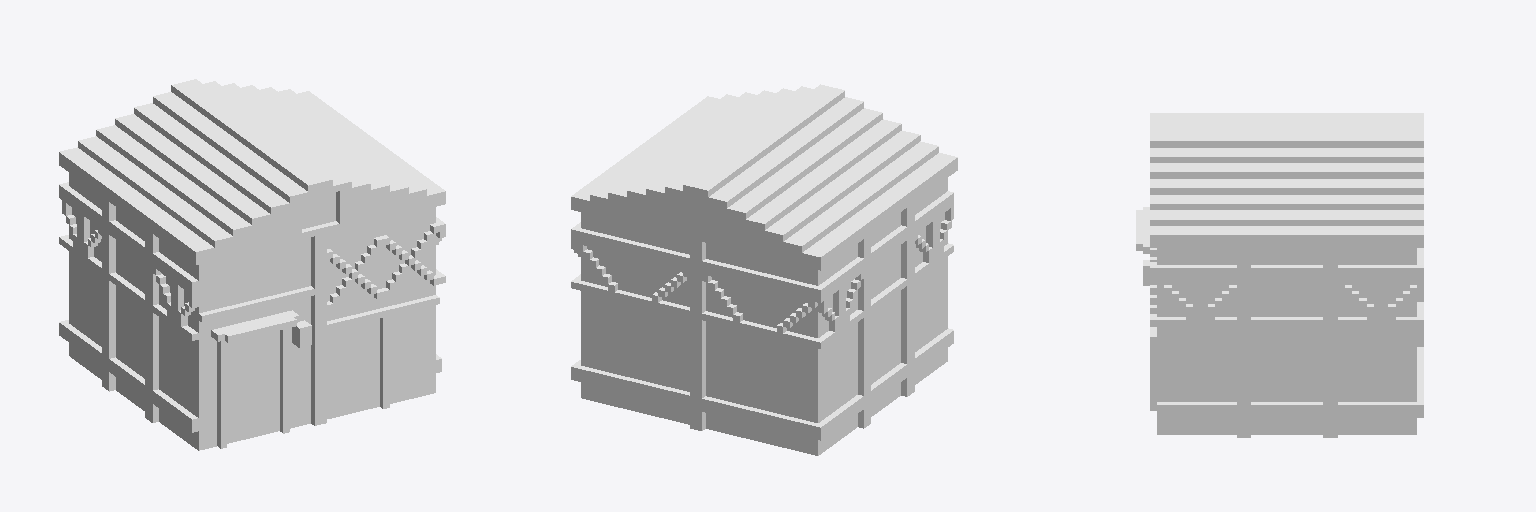
File: house5.obj
3 views of the same model, side by side, from view 1: azimuth 30°, elevation 25°; view 2: azimuth 150°, elevation 25°; view 3: azimuth 270°, elevation 25° (orthographic).
Parts seen in each view (by area): view 1: object 1; view 2: object 1; view 3: object 1.
Part boxes in pixels (x1,y1,x2,y2): object 1: (59,79,445,450); object 1: (571,84,957,455); object 1: (1136,113,1423,437).
Size of the model in its own units: 4 by 3.7 by 4.